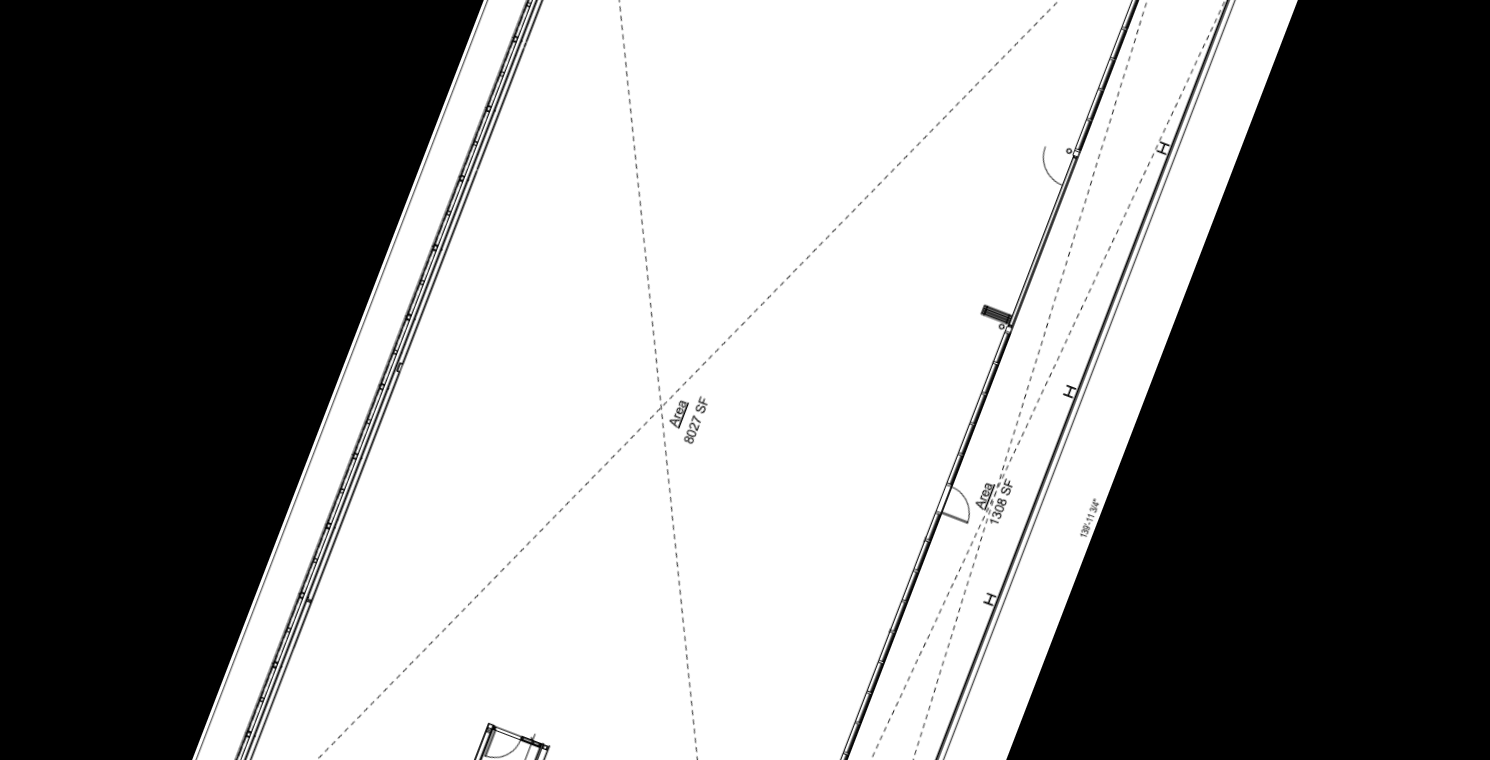door: (927, 477, 981, 528), (482, 719, 527, 760)
